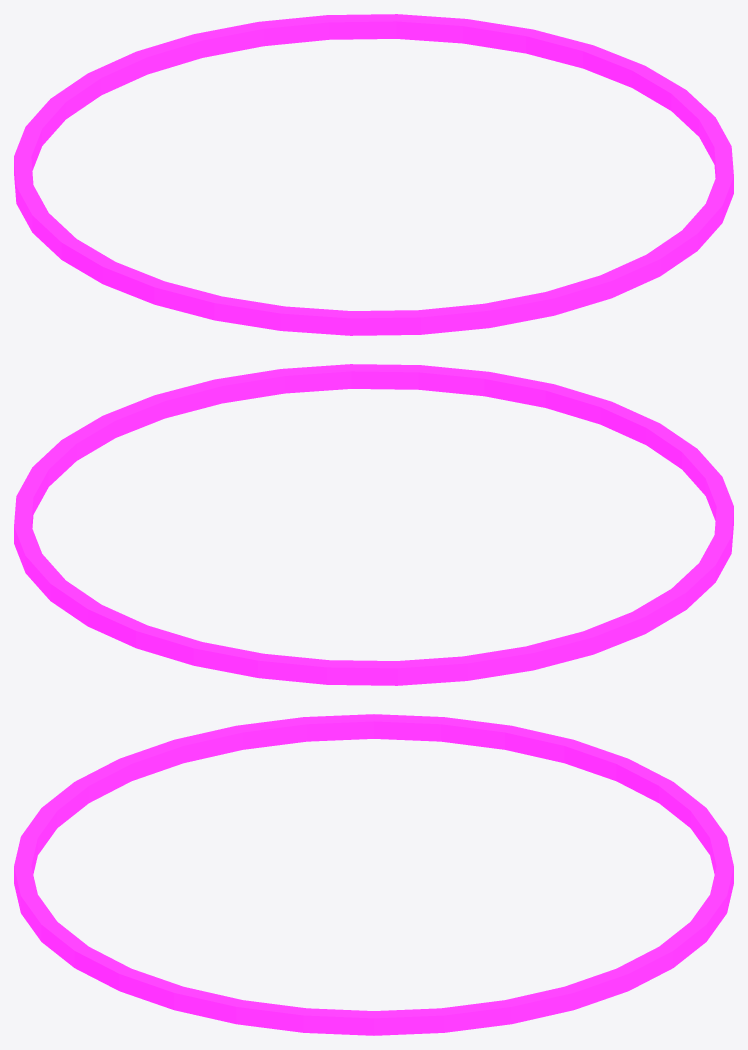
File: impactWave.glb
3 renders of one model, top to bottom at view 1: azimuth 30°, elevation 25°; view 2: azimuth 150°, elevation 25°; view 3: azimuth 270°, elevation 25°, orthographic.
Parts seen in each view (by area): view 1: ImpactWave; view 2: ImpactWave; view 3: ImpactWave.
Boxes of the visible parts, <box> form: ImpactWave: <box>14,14,733,335</box>; ImpactWave: <box>14,364,733,685</box>; ImpactWave: <box>14,714,733,1035</box>.
Size of the model in its own units: 1.99 by 0.0531 by 1.99.
